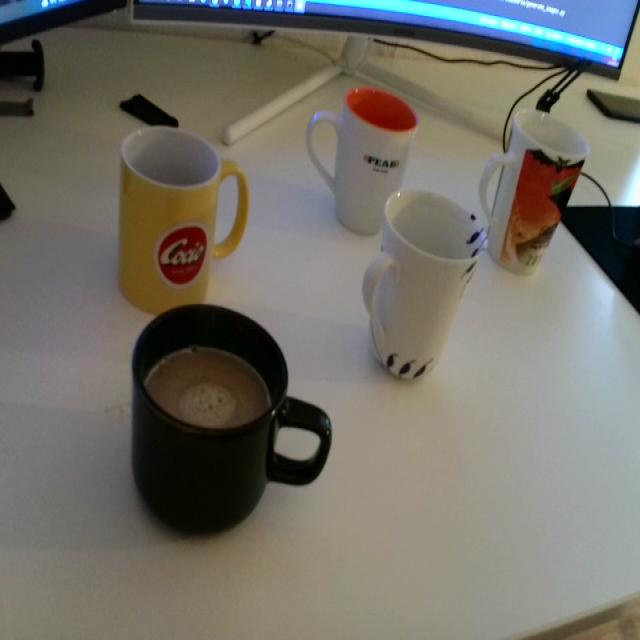Cocio Cup: (114, 123, 249, 314)
Cup: (131, 304, 336, 536), (300, 85, 418, 230)
Halloween cup: (483, 100, 584, 282)
Hand painted cup: (366, 188, 486, 390)
